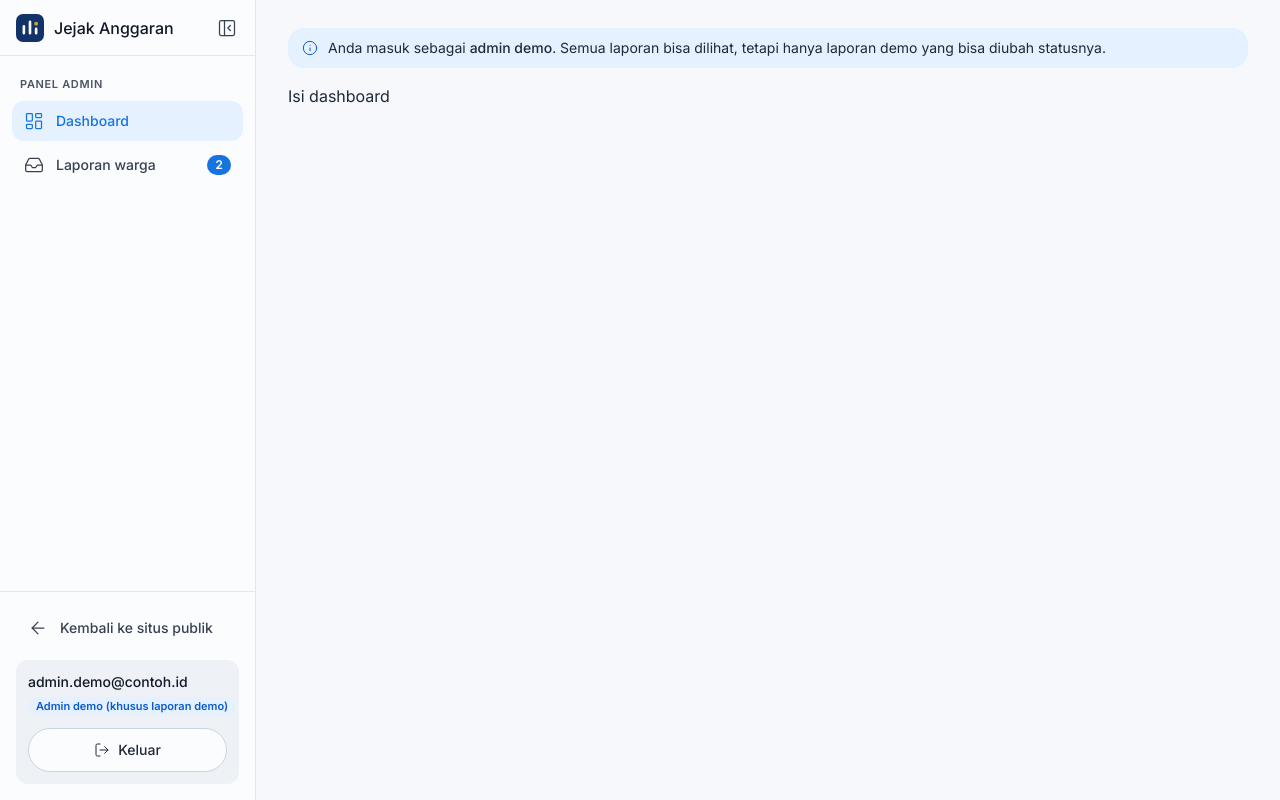
Test: <AdminLayout> › sidebar bisa diciutkan ke mode ikon dan pilihannya diingat
Step 1. Click the button named "Ciutkan sidebar" → coordinates (227, 28), box [207,8,247,48]
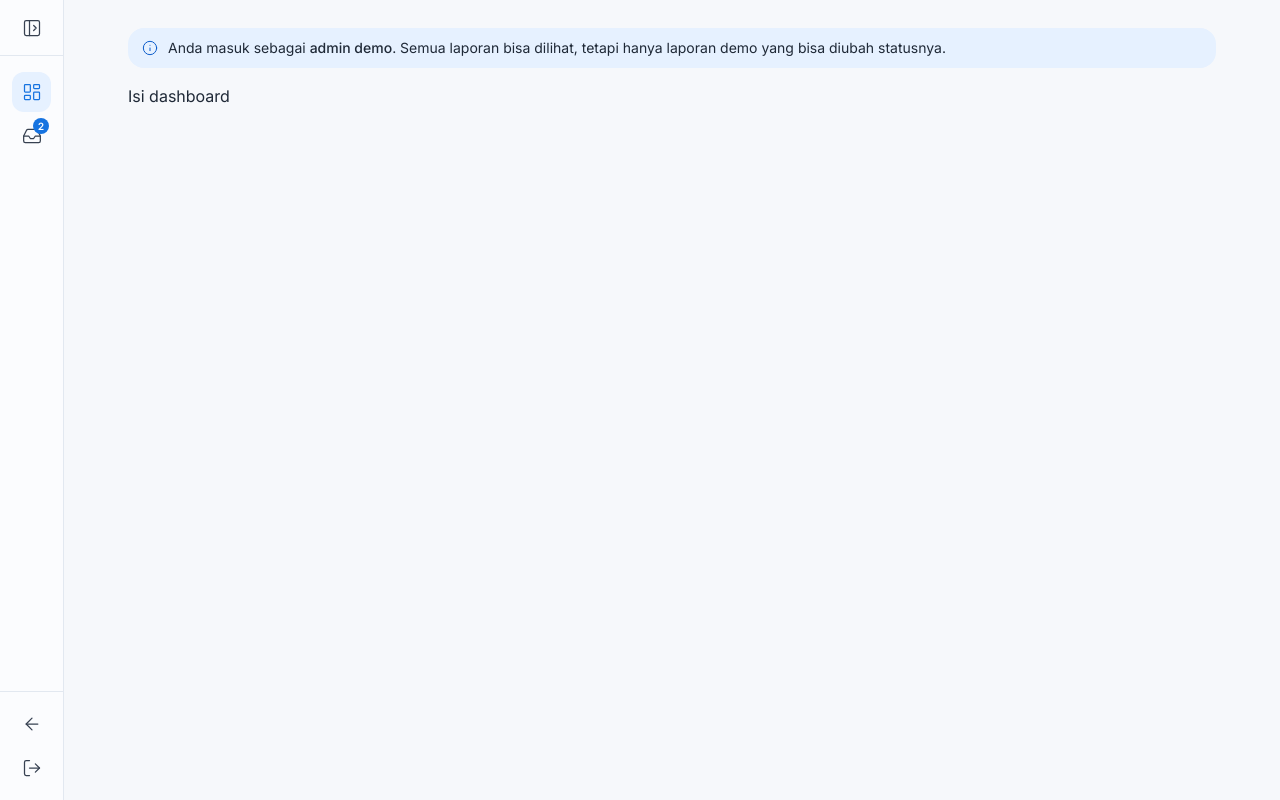
Check: the button named "Lebarkan sidebar" is collapsed
Check: the text "Admin demo (khusus laporan demo)" is gone
Check: the button named "Keluar" is shown, box [12,748,51,788]
Step 2. Click the button named "Lebarkan sidebar" → coordinates (32, 28), box [12,8,52,48]
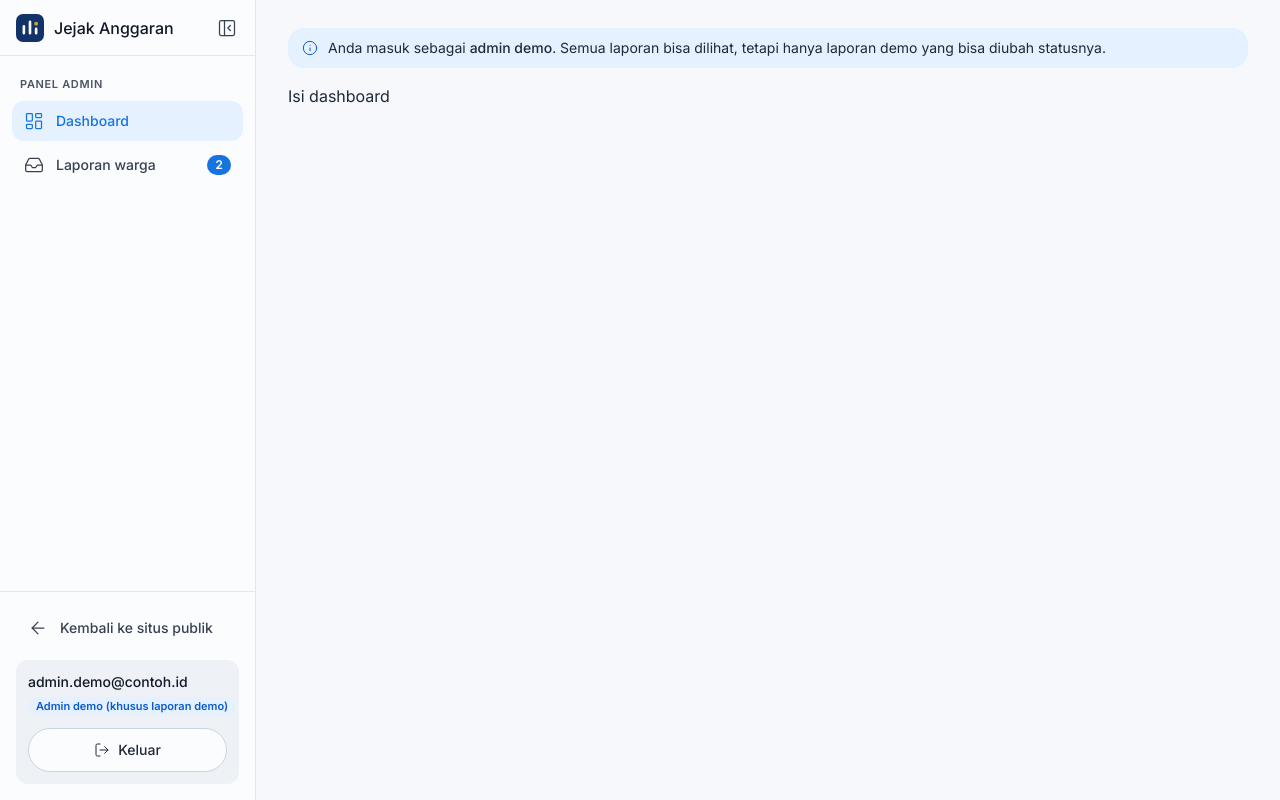
Check: the button named "Ciutkan sidebar" is expanded, box [207,8,247,48]
